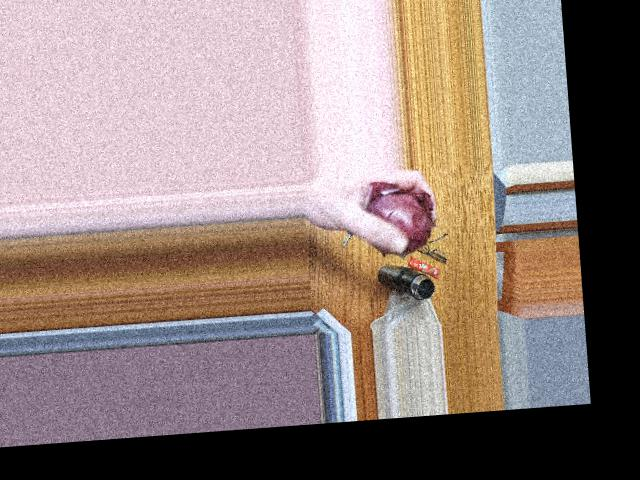onion: (359, 185, 430, 247)
